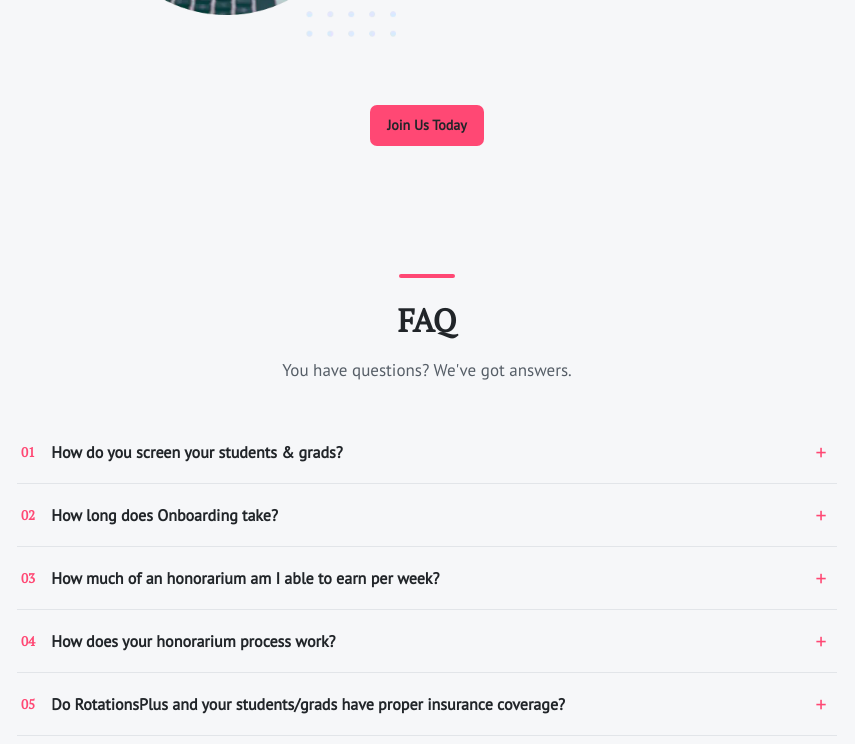
Test: ForPreceptorsPage › expands an FAQ answer on click
The image size is (855, 744).
(page scrolled)
Expected: the text "upload their CV" is not shown
Step 1. Click the button "01 How do you screen your students & grads? +" → click(197, 452), box [17,421,837,483]
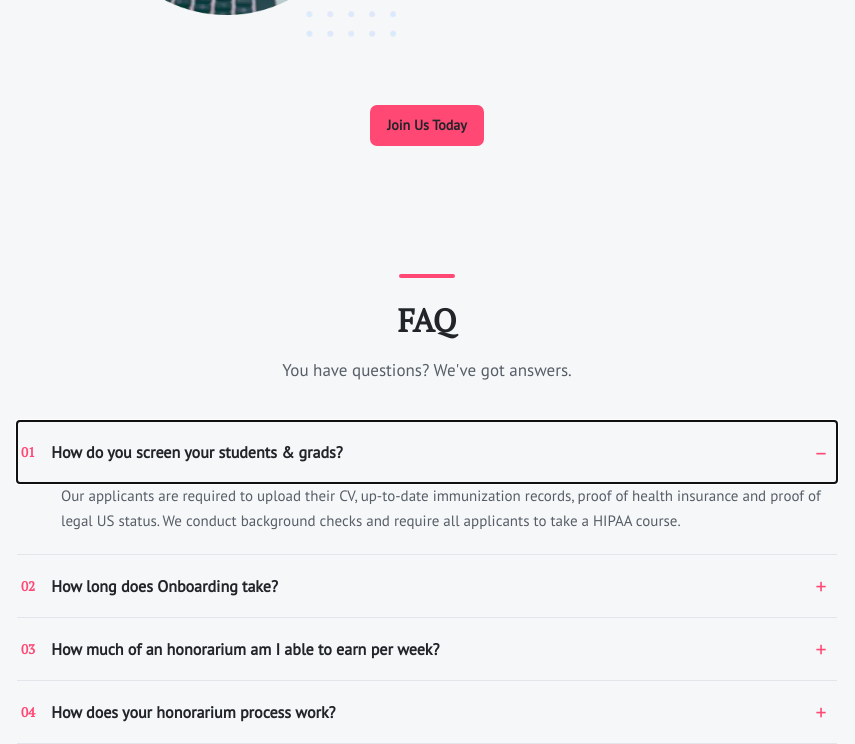
Result: the text "upload their CV" is shown at [61,486,821,530]
